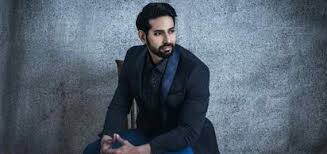Indian_Male: (139, 9, 189, 66)
